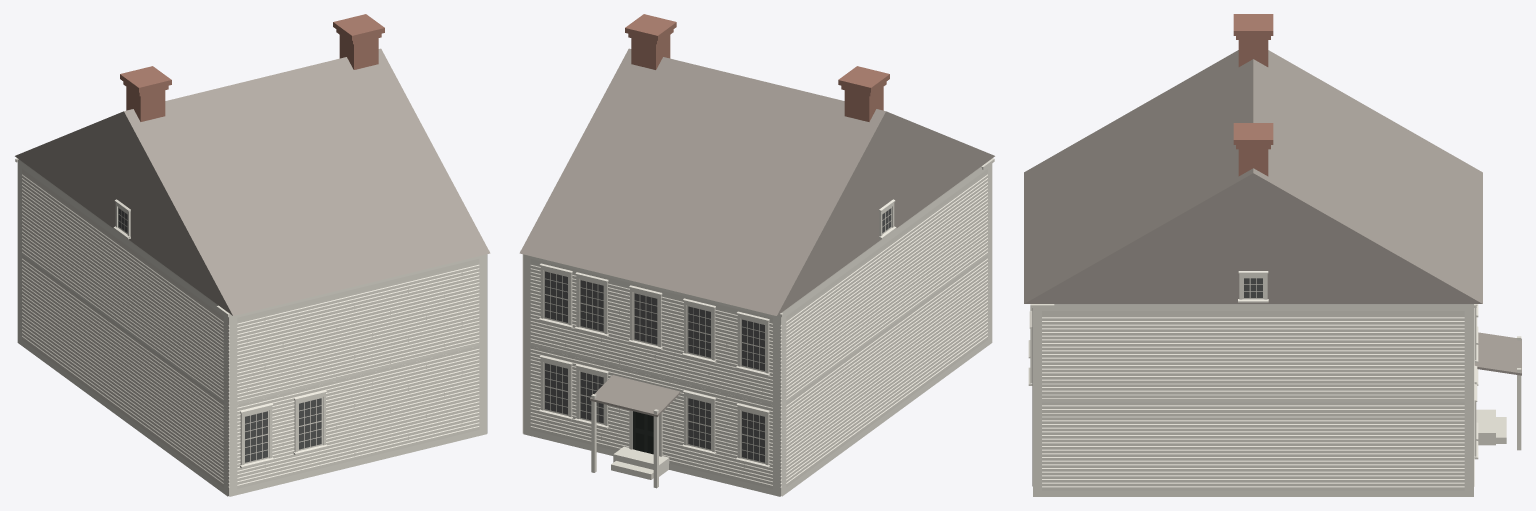
Rendered from recon_1835_blk_washington_dearborn_h2_05__inferred_1835.glb.
The picture shows the model from 3 angles, left to right: view 1: azimuth 30°, elevation 25°; view 2: azimuth 150°, elevation 25°; view 3: azimuth 270°, elevation 25°; orthographic projection. The views are drawn at different scales.
Visible parts, largest first — view 1: recon_1835_blk_washington_dearborn_h2_05__inferred_1835; view 2: recon_1835_blk_washington_dearborn_h2_05__inferred_1835; view 3: recon_1835_blk_washington_dearborn_h2_05__inferred_1835.
Part boxes in pixels (x1=…): recon_1835_blk_washington_dearborn_h2_05__inferred_1835: x1=15, y1=14, x2=490, y2=496; recon_1835_blk_washington_dearborn_h2_05__inferred_1835: x1=519, y1=14, x2=994, y2=496; recon_1835_blk_washington_dearborn_h2_05__inferred_1835: x1=1024, y1=14, x2=1521, y2=496.
Size of the model in its own units: 8.97 by 10.97 by 14.
